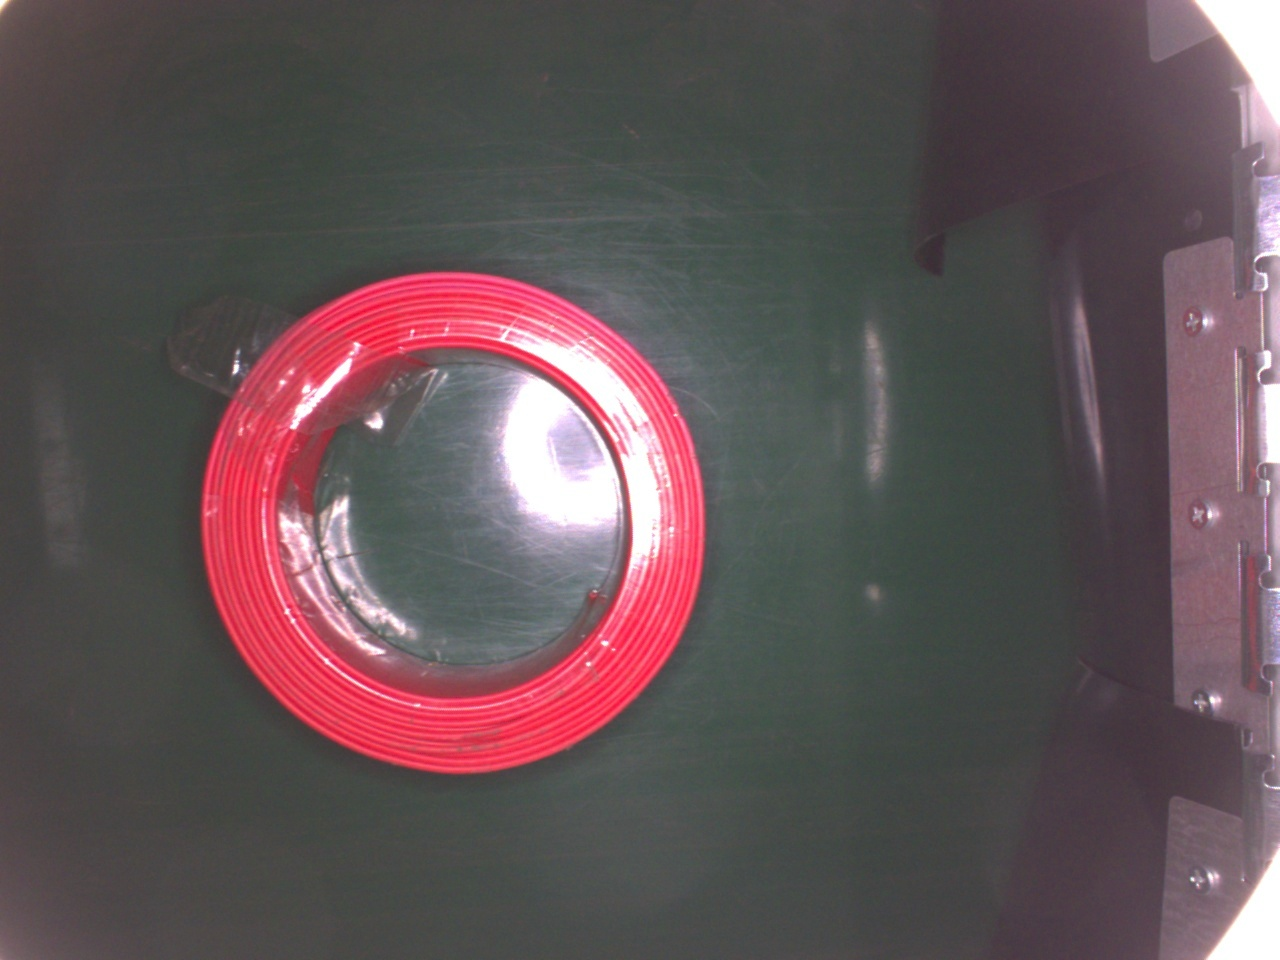red: (199, 269, 711, 769)
